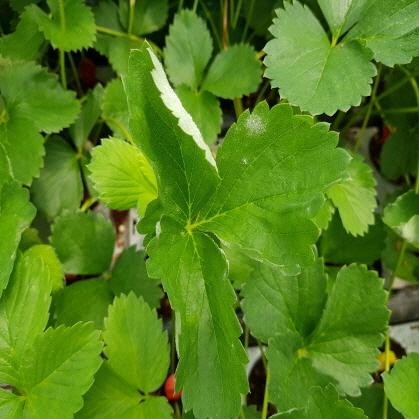Powdery Mildew Leaf: (189, 99, 353, 277), (144, 212, 251, 418), (120, 38, 222, 226), (378, 189, 418, 248)
